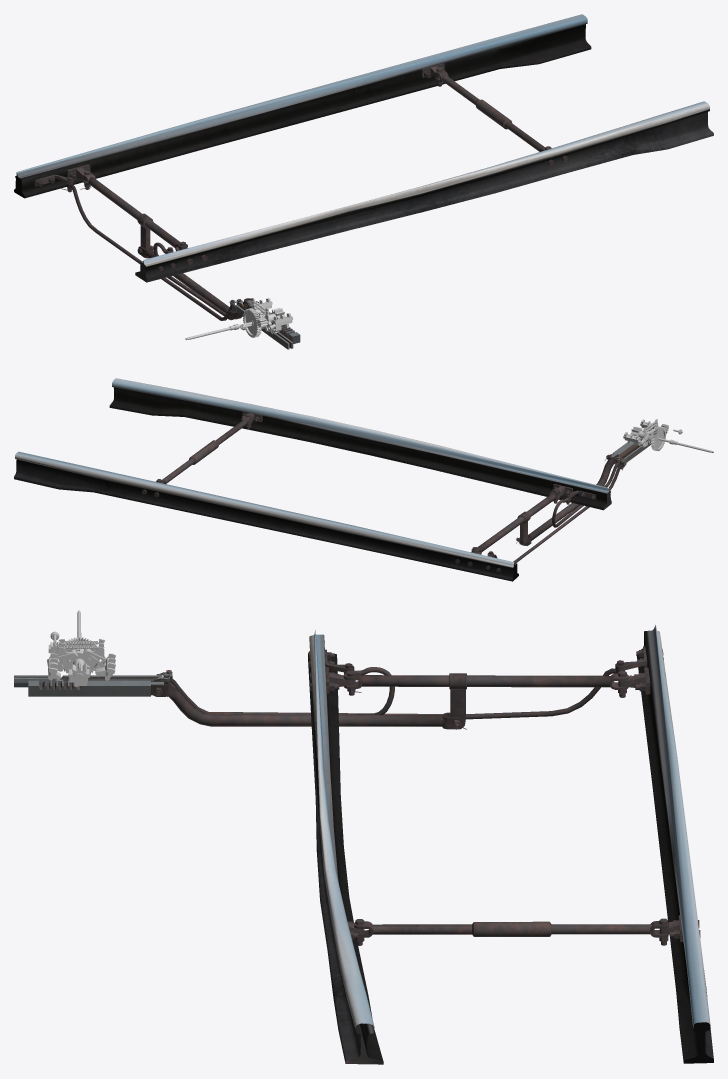
The model's file is sp6_ani_11_otk_StrelMinus_EnginePlus.fbx.
3 views of the same model, one above another, from view 1: azimuth 30°, elevation 25°; view 2: azimuth 150°, elevation 25°; view 3: azimuth 270°, elevation 25° (orthographic). The views are drawn at different scales.
Parts seen in each view (by area): view 1: ostr_left, ostr_right, soedenit_tyaga_1, soedenit_tyaga_2, tyag_contrl_long, rab_tyaga; view 2: ostr_right, ostr_left, soedenit_tyaga_1, soedenit_tyaga_2, rab_tyaga, tyag_contrl_long, tyag_contrl_short; view 3: ostr_right, ostr_left, soedenit_tyaga_1, soedenit_tyaga_2, rab_tyaga, shiber, tyag_contrl_long.
Boxes of the visible parts, box(x1,y1,x2,y2) form: ostr_left: box(14, 14, 591, 198); ostr_right: box(135, 101, 713, 282); soedenit_tyaga_1: box(80, 170, 187, 251); soedenit_tyaga_2: box(435, 67, 551, 151); tyag_contrl_long: box(61, 177, 234, 320); rab_tyaga: box(137, 245, 259, 319); ostr_right: box(109, 378, 611, 510); ostr_left: box(14, 451, 518, 581); soedenit_tyaga_1: box(471, 488, 559, 554); soedenit_tyaga_2: box(156, 413, 252, 483); rab_tyaga: box(516, 454, 618, 545); tyag_contrl_long: box(489, 462, 623, 563); tyag_contrl_short: box(552, 460, 619, 527); ostr_right: box(308, 630, 383, 1064); ostr_left: box(615, 624, 713, 1063); soedenit_tyaga_1: box(343, 670, 628, 725); soedenit_tyaga_2: box(354, 918, 668, 945); rab_tyaga: box(151, 680, 466, 729); shiber: box(28, 680, 163, 696); tyag_contrl_long: box(170, 660, 631, 719).
Bounding box in the file's own units: 4.07 × 0.3388 × 2.82.
